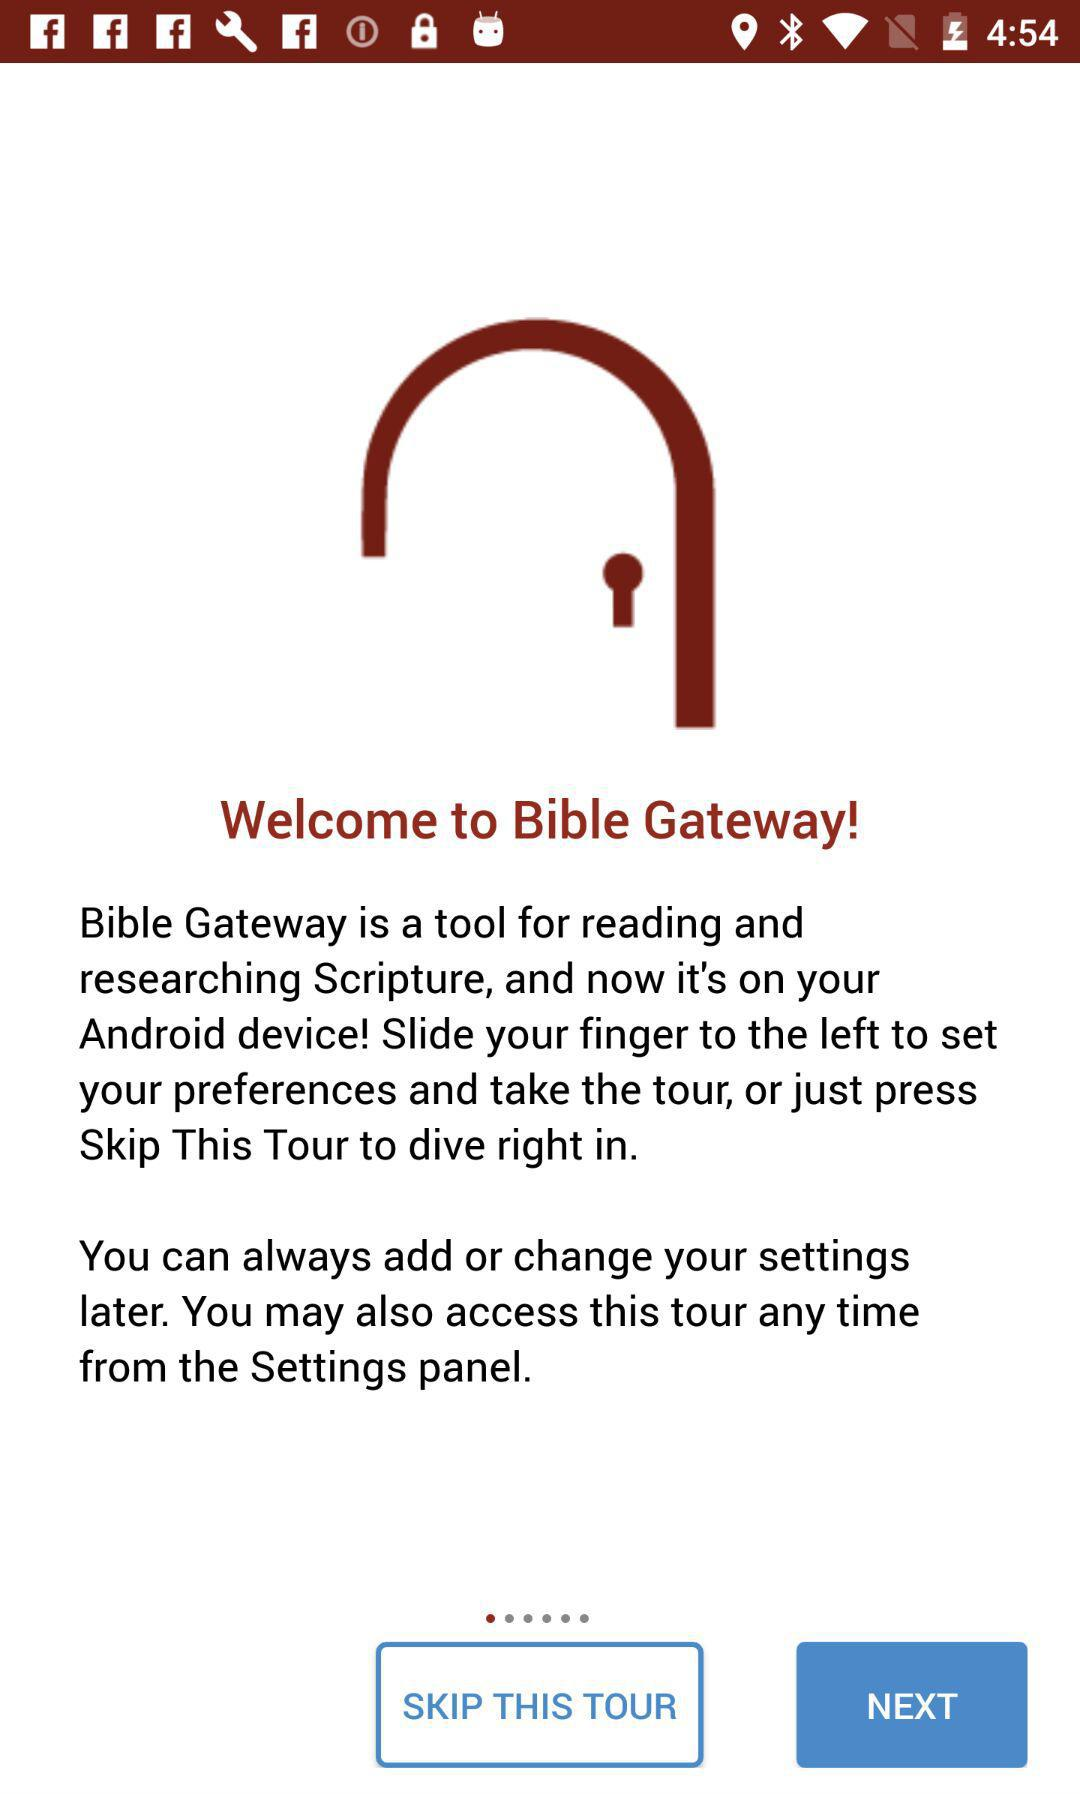Image: (359, 317, 717, 730)
PageIndicator: (486, 1612, 591, 1625)
Text: (79, 905, 998, 1170), (78, 1237, 921, 1392), (222, 796, 858, 851)
TextButton: (375, 1642, 705, 1768), (796, 1642, 1027, 1768)
UpperTaskBar: (1, 1, 1080, 64)
